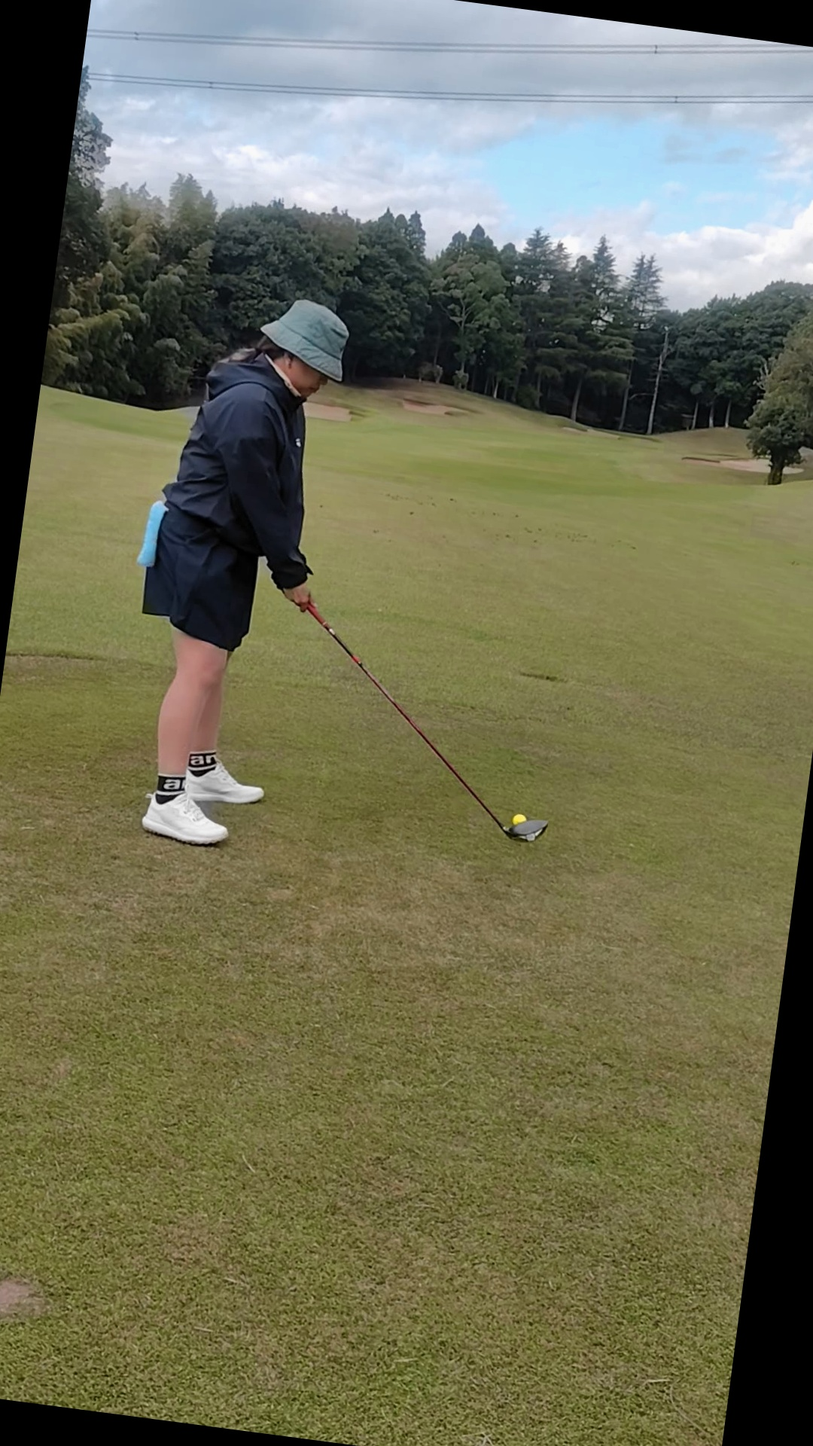clubhead: (426, 759, 636, 901)
